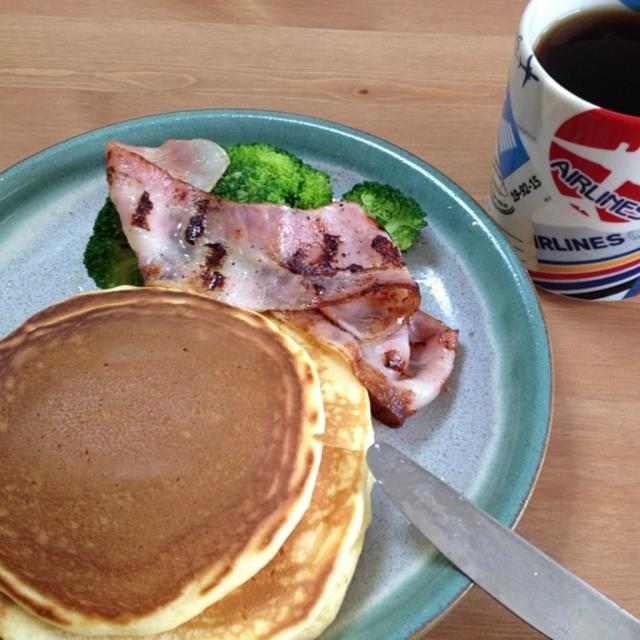Coffee: (538, 7, 638, 122)
Tea: (529, 3, 639, 126)
